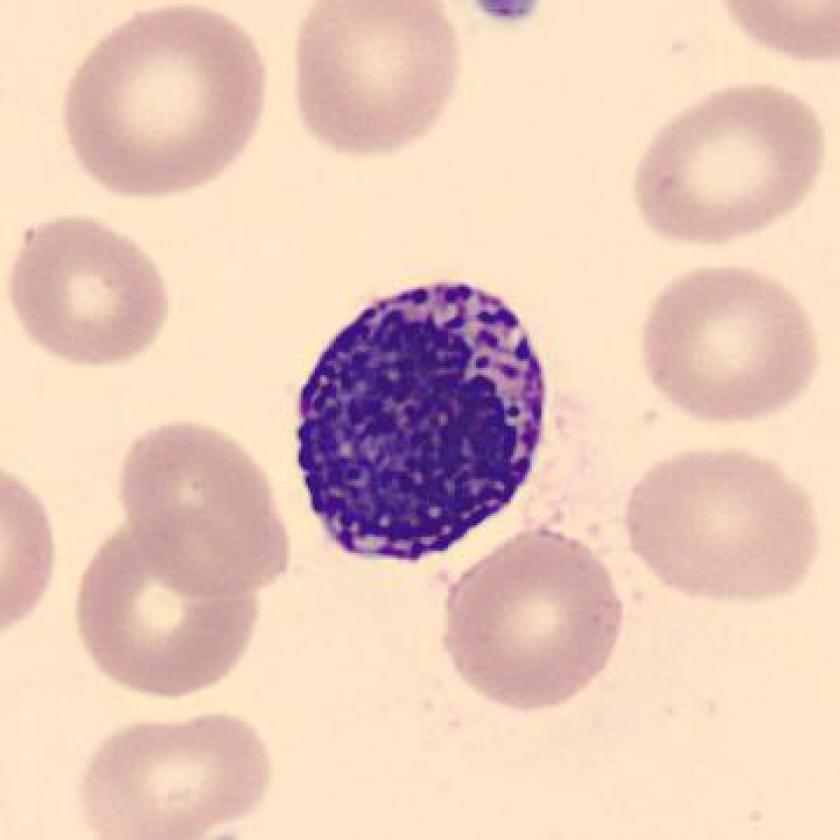basophil: (281, 274, 561, 573)
